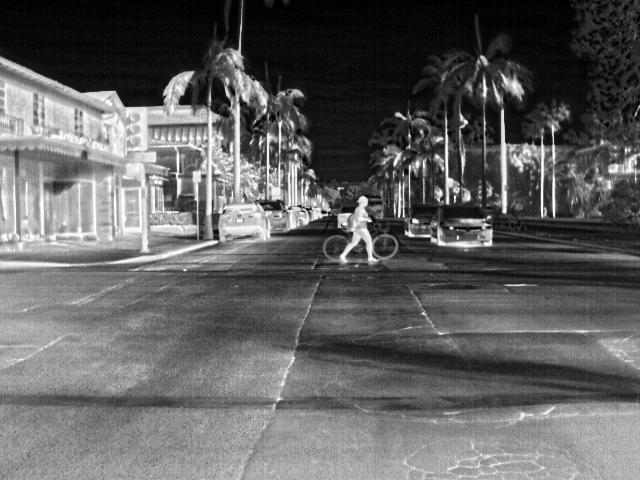car: (430, 204, 494, 248), (219, 203, 272, 244), (403, 203, 436, 239), (267, 199, 290, 233), (368, 195, 384, 222), (336, 207, 352, 230), (286, 204, 300, 230), (295, 205, 309, 225), (307, 206, 319, 222), (317, 208, 329, 217)
person: (351, 193, 371, 265)
